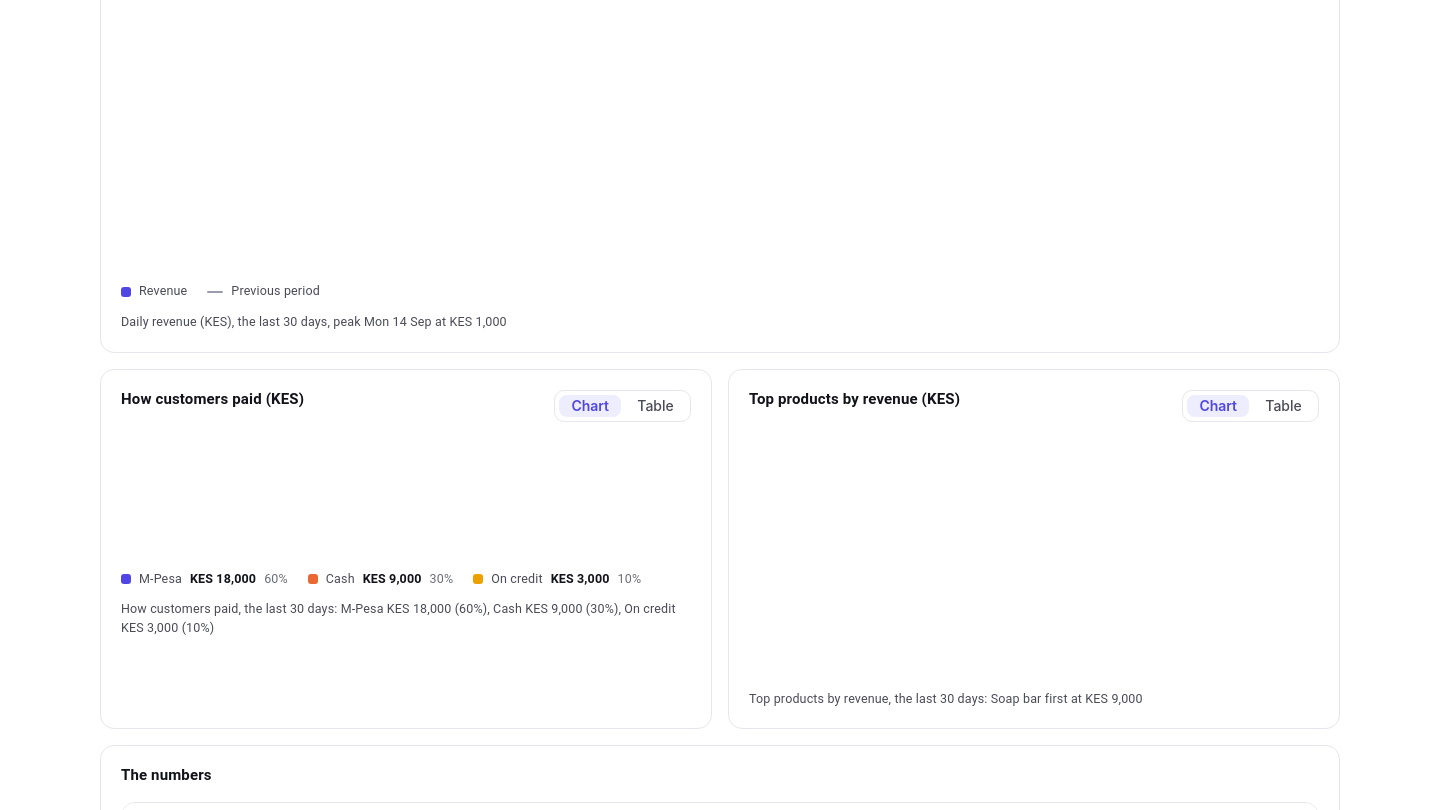
Test: How much did I sell? › each chart has a Chart and Table toggle, and the table view gives the same total as the report
(page scrolled)
Click the radio button labelled "Table" in the row of "How customers paid (KES)". click: (656, 406)
box: x1=625 y1=395 x2=686 y2=417
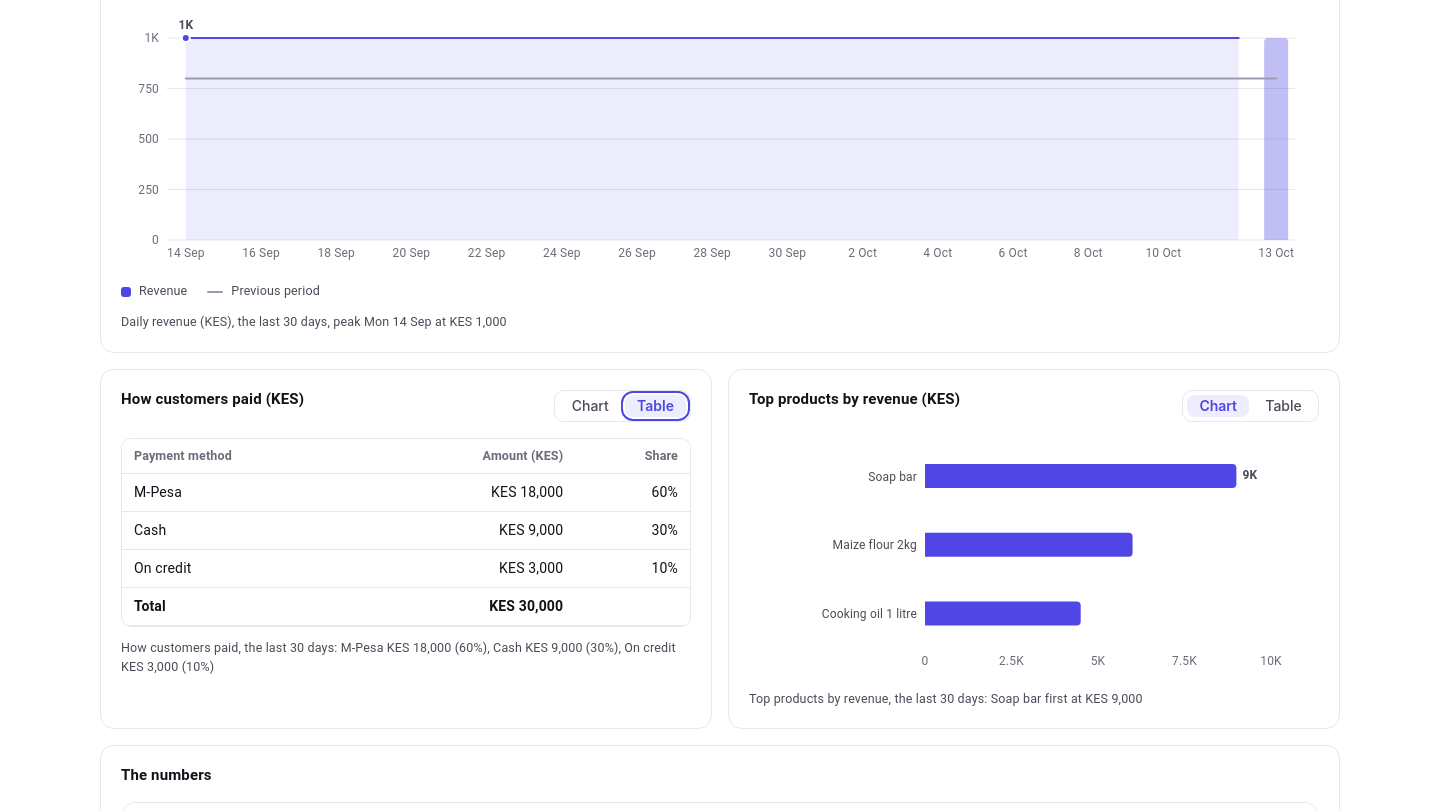
Now the cell "KES 30,000" is shown, box x1=366 y1=588 x2=575 y2=626
